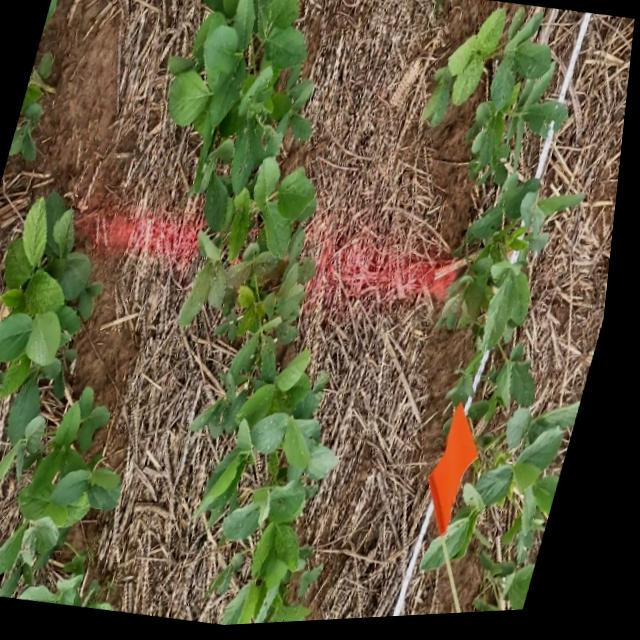soy_plant: (170, 0, 346, 628), (426, 15, 589, 618), (0, 195, 131, 611), (12, 56, 53, 154)
